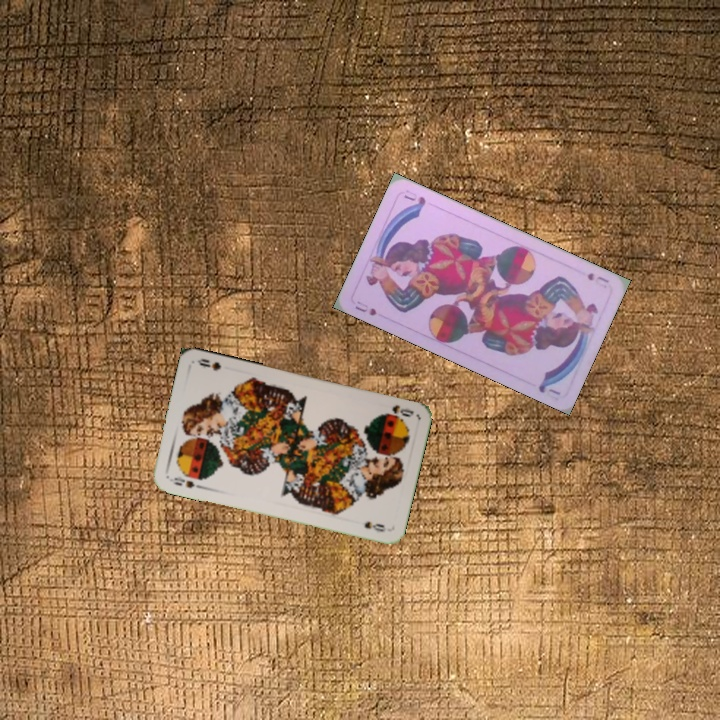SO: (165, 472, 205, 492), (381, 401, 416, 420)
SU: (351, 297, 380, 318), (583, 269, 611, 288)
